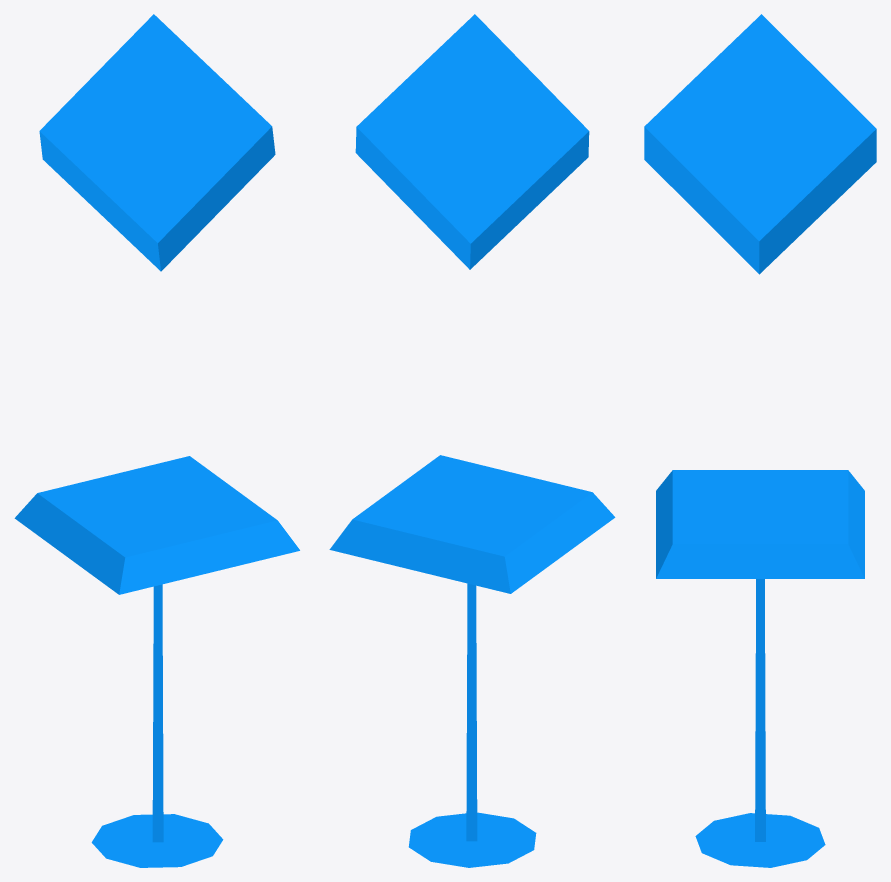
Rendered from pokestop_far_low.fbx.
3 renders of one model, left to right at view 1: azimuth 30°, elevation 25°; view 2: azimuth 150°, elevation 25°; view 3: azimuth 270°, elevation 25°, orthographic.
Parts seen in each view (by area): view 1: pokestop_far_low; view 2: pokestop_far_low; view 3: pokestop_far_low.
Boxes of the visible parts, x1=… form: pokestop_far_low: x1=14, y1=14, x2=299, y2=867; pokestop_far_low: x1=329, y1=14, x2=615, y2=867; pokestop_far_low: x1=644, y1=14, x2=876, y2=867.
Bounding box in the file's own units: 2.01 × 6.77 × 1.73.
